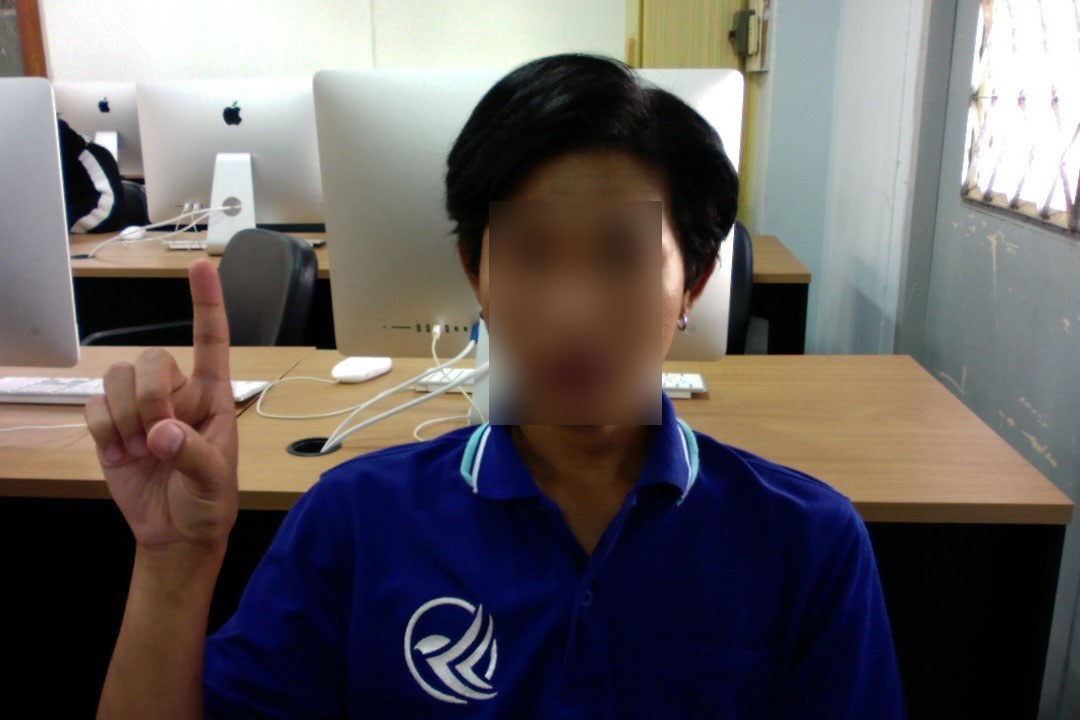dor: (79, 249, 242, 582)
